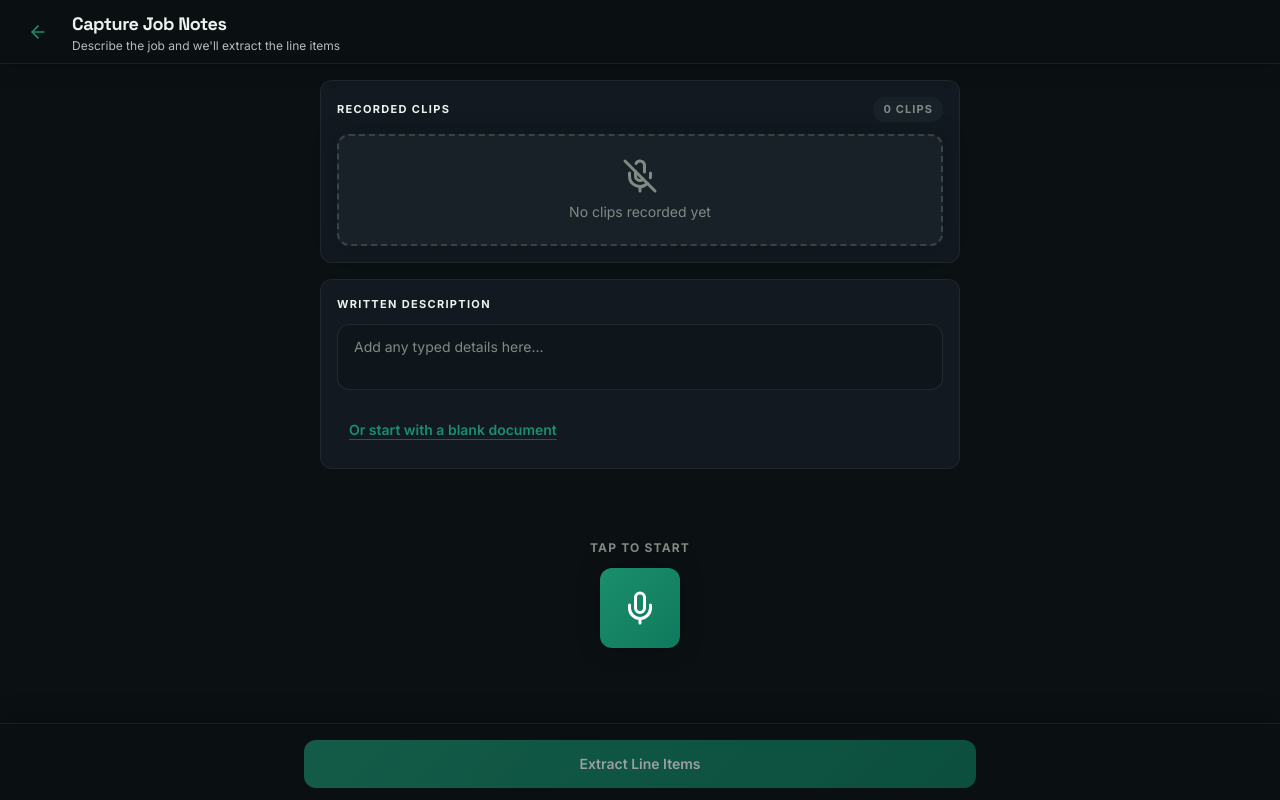
Test: CaptureScreen › dismisses submission errors via local error state without clearing voice capture
Type "Install sod in backyard" into the text box labelled "WRITTEN DESCRIPTION".
click(640, 357); type("Install sod in backyard")  # box [337,324,943,390]
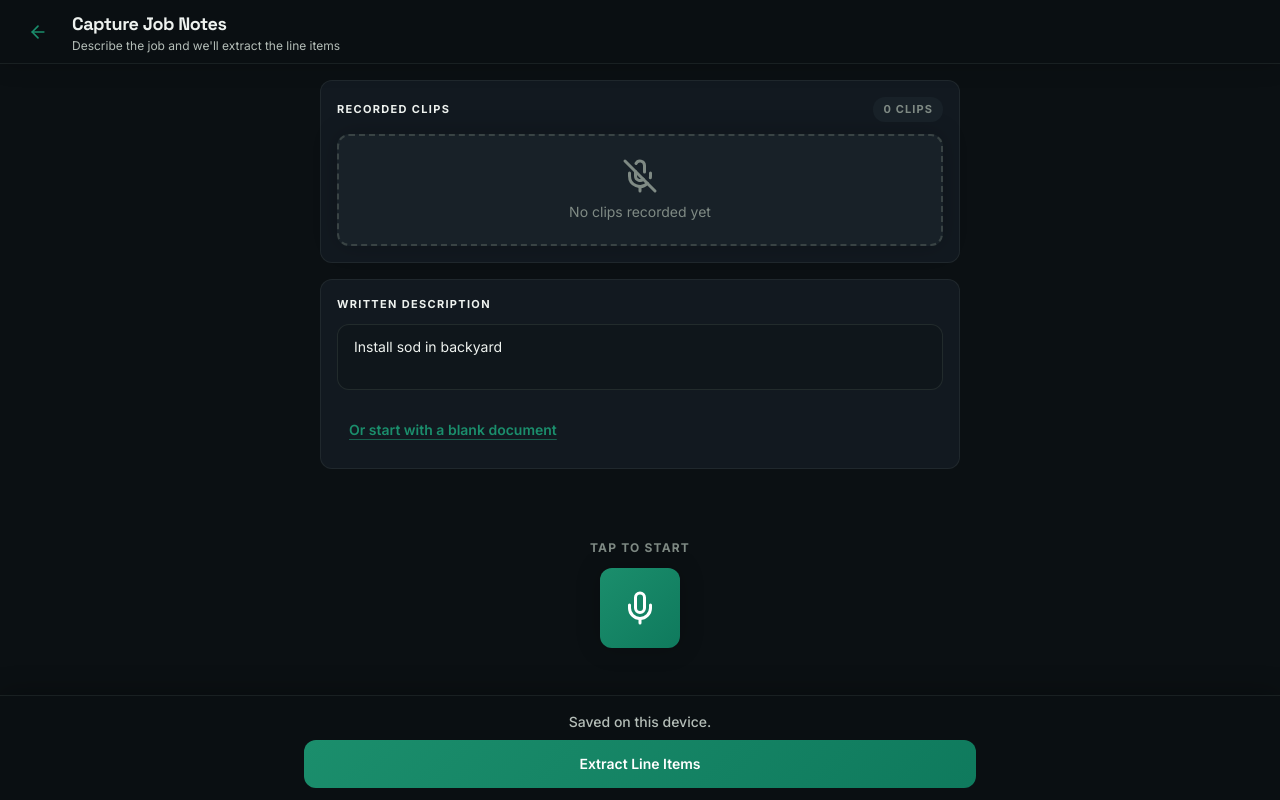
Click the button "Extract Line Items".
click(640, 764)  # box [304,740,976,788]
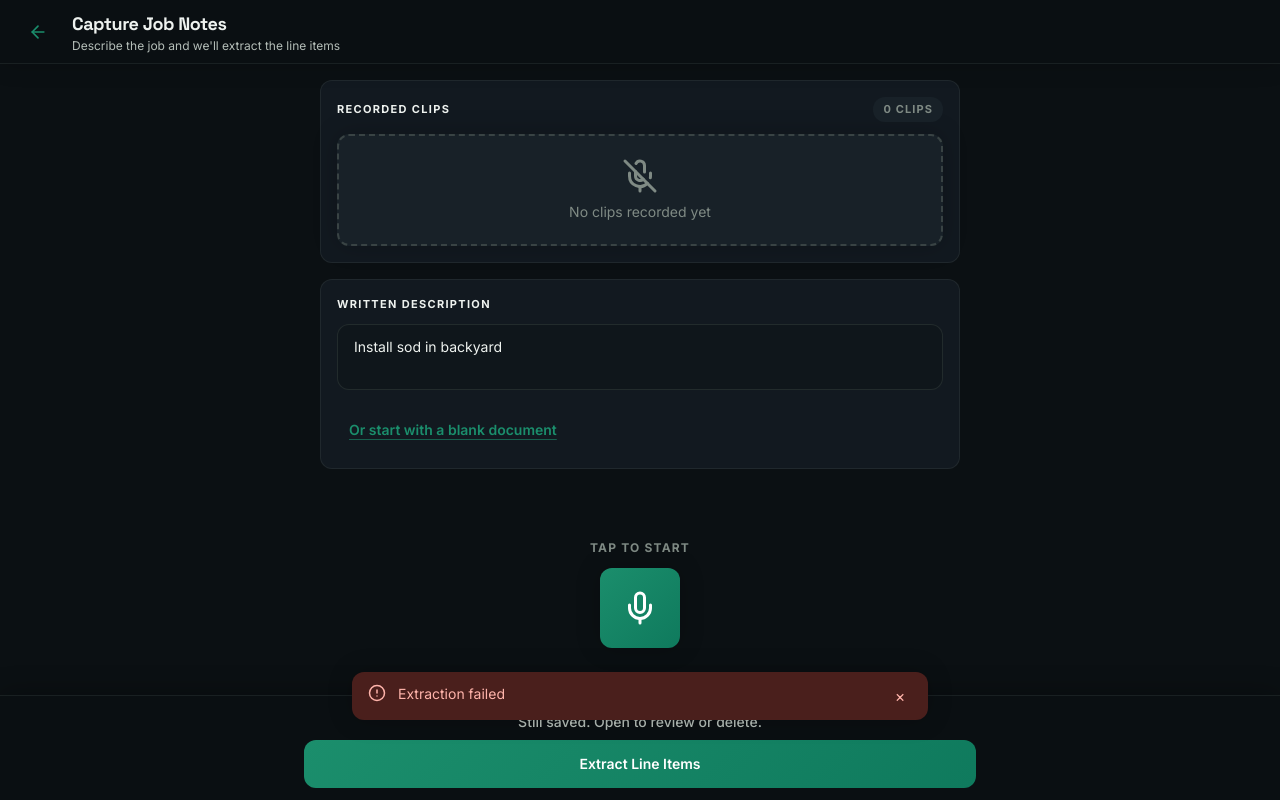
Check: the message shows "Extraction failed", box [398,685,505,702]
Click the button named "dismiss".
click(900, 696)  # box [888,684,912,708]
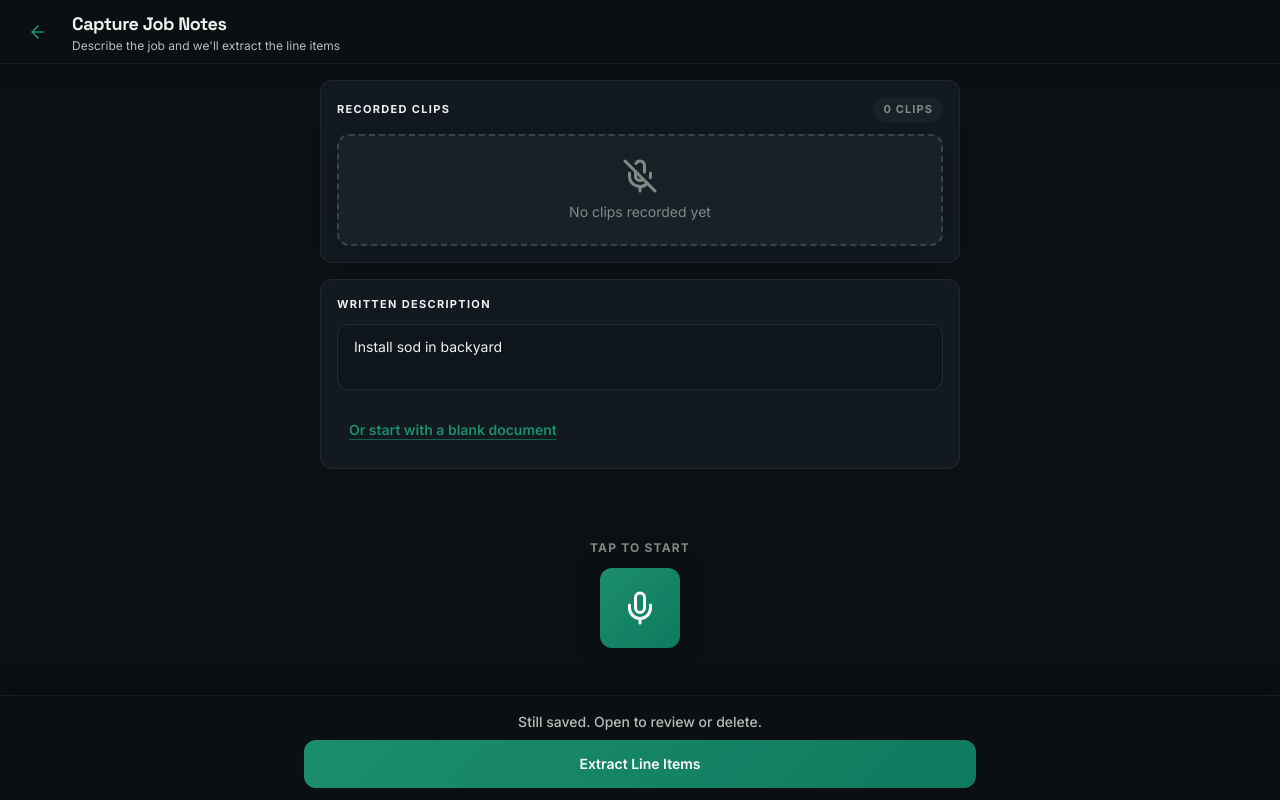
Check: the message "Extraction failed ×" is gone
